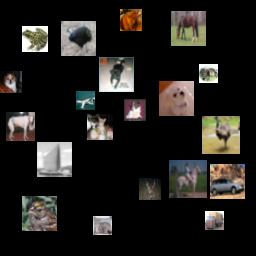airplane: (76, 91, 95, 110)
automobile: (210, 164, 245, 199)
bird: (202, 116, 240, 154), (61, 21, 96, 56), (22, 196, 57, 231)
cat: (87, 114, 113, 140), (120, 9, 142, 31), (93, 216, 112, 235), (199, 64, 218, 83)
deer: (139, 178, 161, 200)
dog: (99, 57, 134, 92), (159, 81, 194, 116), (6, 112, 35, 141), (124, 99, 146, 121), (0, 71, 22, 93)
frog: (22, 26, 48, 52)
ship: (37, 142, 72, 177)
truck: (205, 211, 224, 230)
